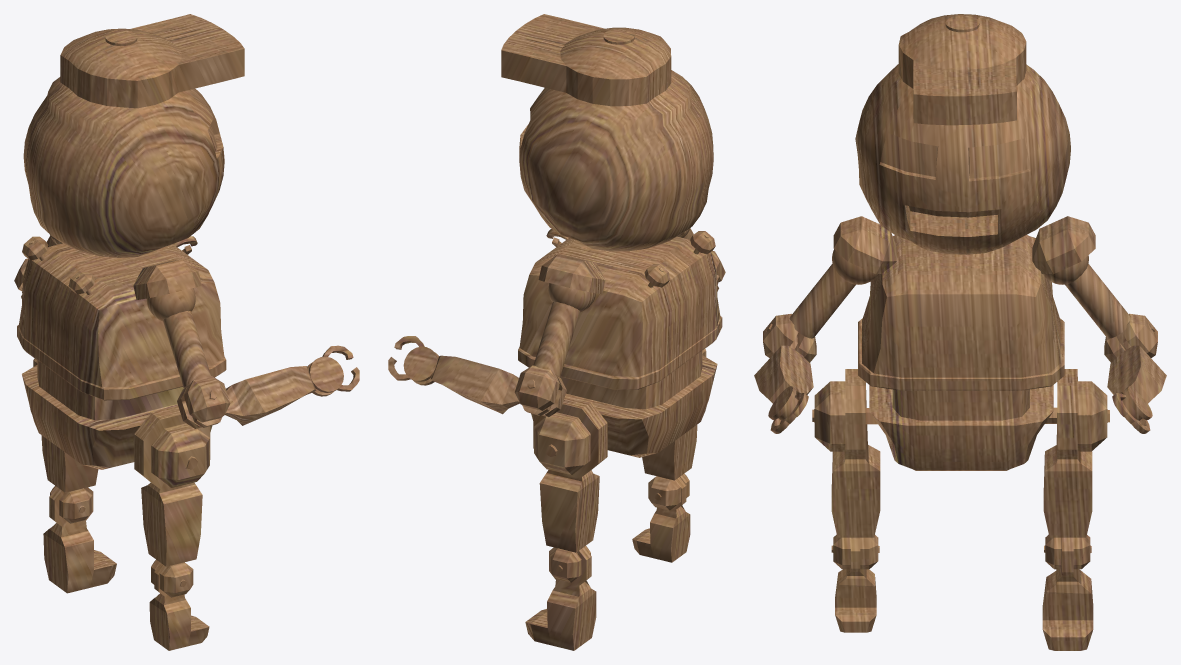
File: Character1.obj
3 renders of one model, left to right at view 1: azimuth 30°, elevation 25°; view 2: azimuth 150°, elevation 25°; view 3: azimuth 270°, elevation 25°, orthographic. The views are drawn at different scales.
Visible parts, largest first — view 1: pCube34; view 2: pCube34; view 3: pCube34.
Part boxes in pixels (x1,y1,x2,y2): pCube34: (14,14,359,650); pCube34: (388,14,725,650); pCube34: (754,14,1166,650).
Size of the model in its own units: 2.63 by 6.23 by 3.79.
